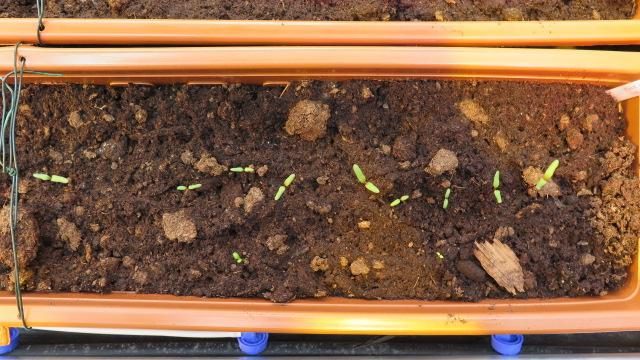crop: (351, 161, 382, 193), (530, 156, 559, 190), (270, 171, 298, 201), (487, 167, 504, 205), (28, 171, 71, 184), (437, 185, 454, 209), (384, 193, 411, 207), (223, 164, 256, 173), (172, 181, 203, 190)
weed: (229, 250, 244, 263)
